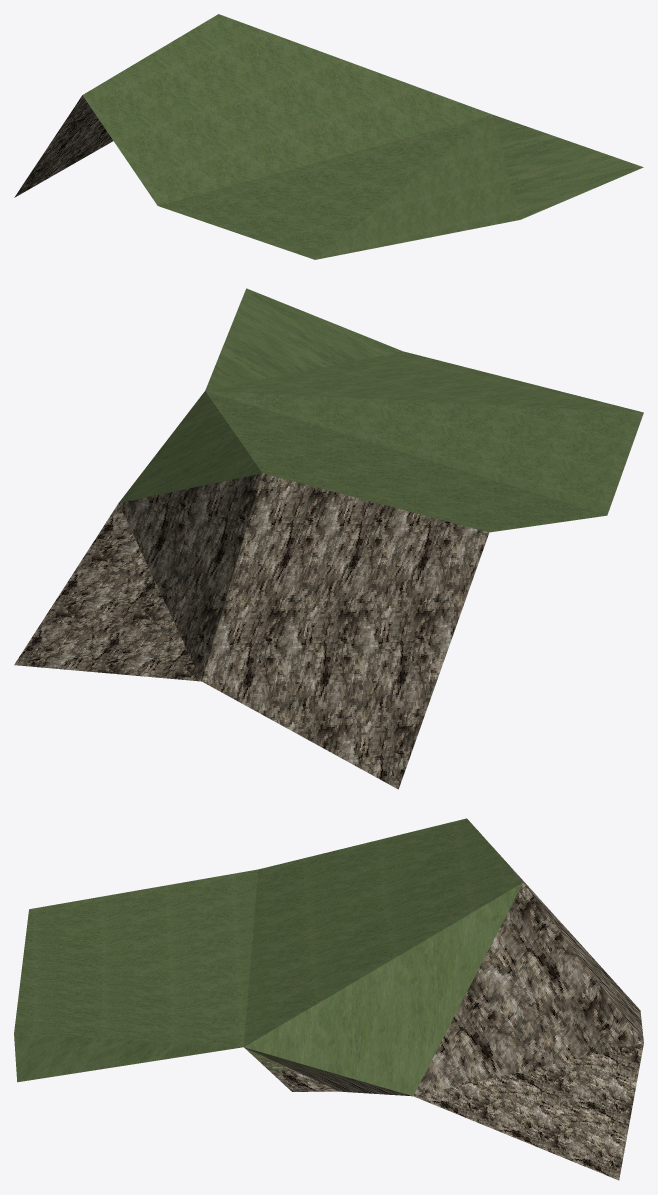
Rendered from LODa_carisle_mid_landmass_00_01.fbx.
The picture shows the model from 3 angles, top to bottom: view 1: azimuth 30°, elevation 25°; view 2: azimuth 150°, elevation 25°; view 3: azimuth 270°, elevation 25°; orthographic projection. The views are drawn at different scales.
Visible parts, largest first — view 1: LODa_carisle_mid_landmass_00_01; view 2: LODa_carisle_mid_landmass_00_01; view 3: LODa_carisle_mid_landmass_00_01.
Boxes of the visible parts, x1=… form: LODa_carisle_mid_landmass_00_01: x1=14, y1=14, x2=643, y2=259; LODa_carisle_mid_landmass_00_01: x1=14, y1=288, x2=643, y2=789; LODa_carisle_mid_landmass_00_01: x1=14, y1=818, x2=643, y2=1180.
Size of the model in its own units: 30.49 by 34.93 by 13.57.
